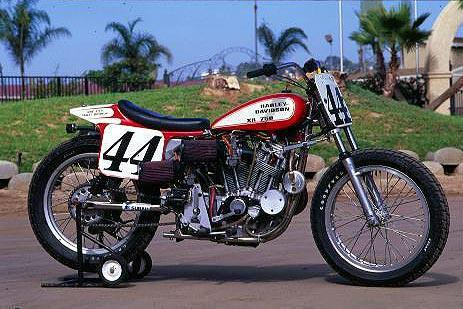motorcycle: (12, 55, 455, 292)
